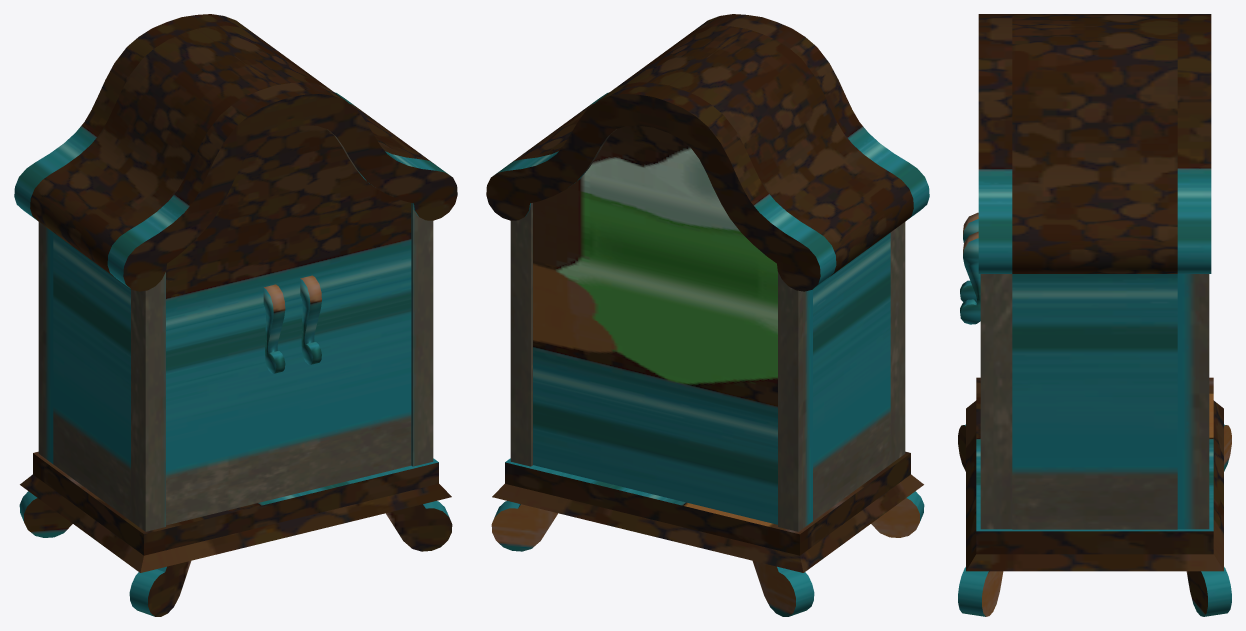
File: zodiac_gemini.fbx
3 renders of one model, left to right at view 1: azimuth 30°, elevation 25°; view 2: azimuth 150°, elevation 25°; view 3: azimuth 270°, elevation 25°, orthographic. The views are drawn at different scales.
Parts seen in each view (by area): view 1: ZodiacGemini; view 2: ZodiacGemini; view 3: ZodiacGemini.
Boxes of the visible parts, bbox=[...] form: ZodiacGemini: bbox=[14, 14, 457, 616]; ZodiacGemini: bbox=[486, 14, 929, 616]; ZodiacGemini: bbox=[958, 14, 1231, 616].
Bounding box in the file's own units: 275 × 379 × 183.
